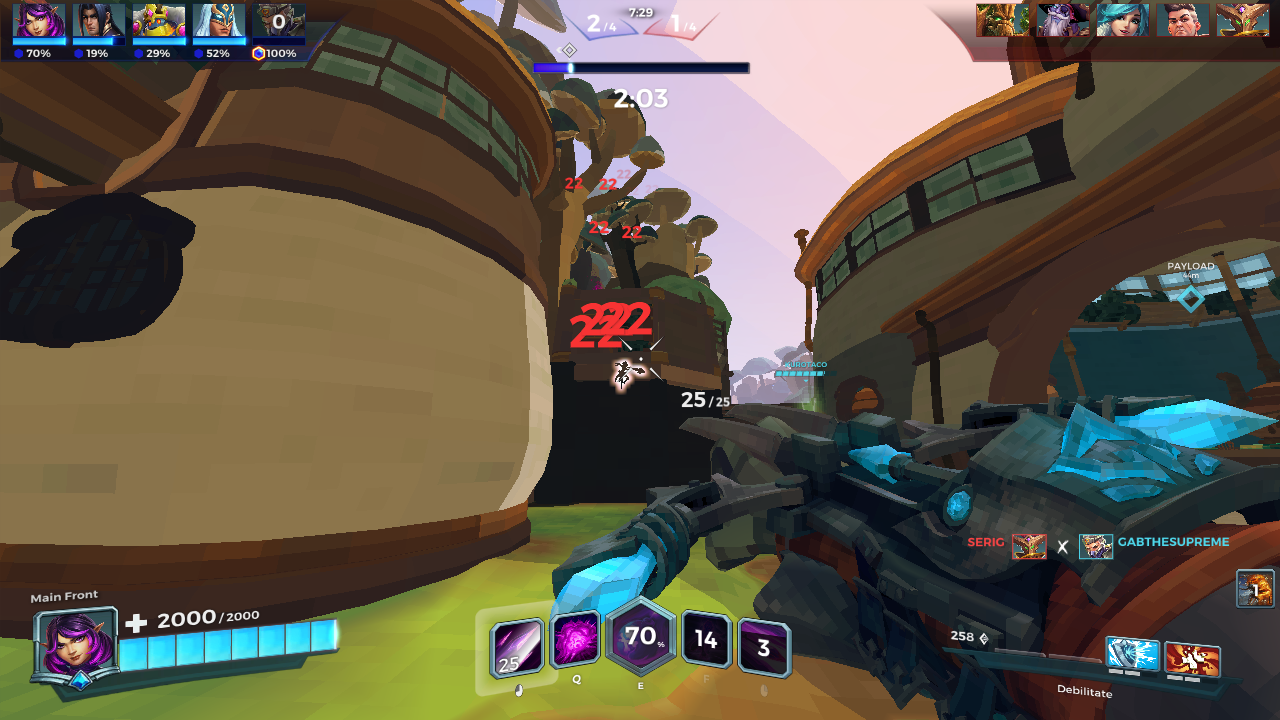model: (615, 358, 643, 394)
